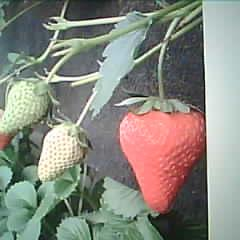straw-ripe: (121, 105, 206, 212)
straw-unripe: (39, 121, 89, 180), (1, 79, 52, 132)
